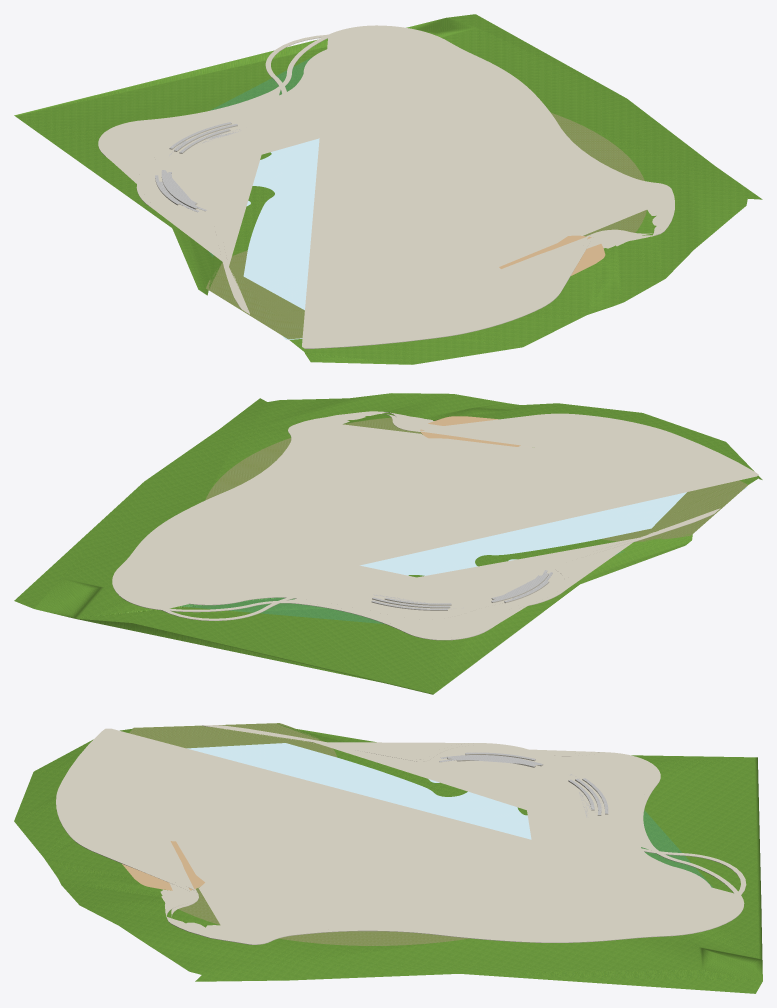
The model's file is lake.fbx.
3 views of the same model, one above another, from view 1: azimuth 30°, elevation 25°; view 2: azimuth 150°, elevation 25°; view 3: azimuth 270°, elevation 25° (orthographic). The views are drawn at different scales.
Visible parts, largest first — view 1: lake; view 2: lake; view 3: lake.
Boxes of the visible parts, x1,y1,x2,y2 form: lake: (14,14,762,364); lake: (14,393,762,694); lake: (14,723,762,993).
Bounding box in the file's own units: 175399 × 7681 × 219189.
Materials: 6 (4 with a texture image).
